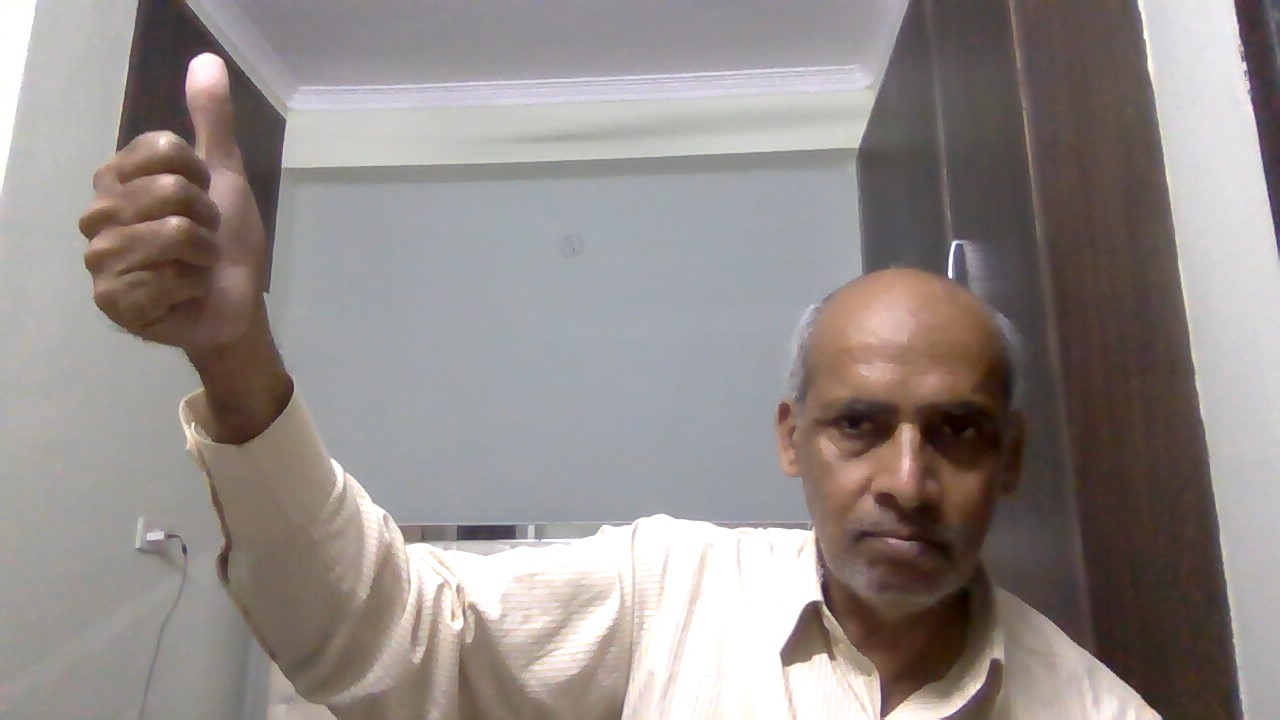Save: (66, 47, 295, 356)
